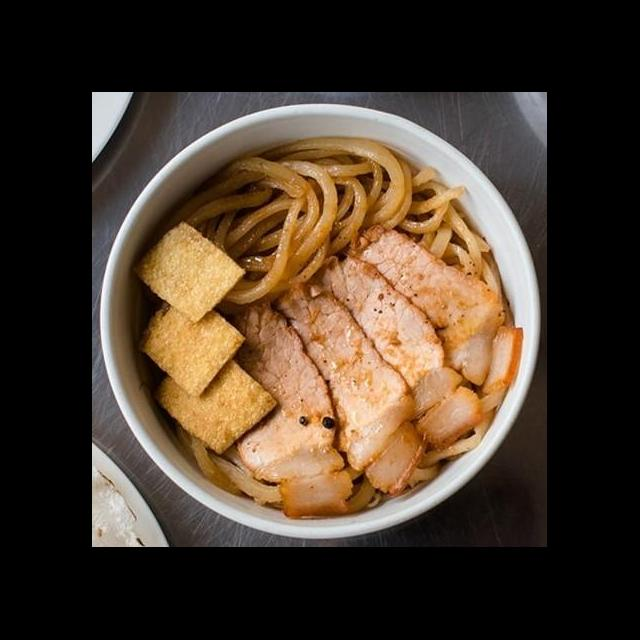banh da: (150, 354, 280, 460), (130, 220, 250, 328), (136, 294, 250, 402)
mi: (174, 132, 416, 306), (396, 164, 506, 298), (176, 428, 290, 509)
mi quang: (95, 121, 548, 548)
thit heo: (271, 278, 434, 501), (312, 252, 486, 456), (338, 220, 526, 396), (216, 298, 362, 522)
